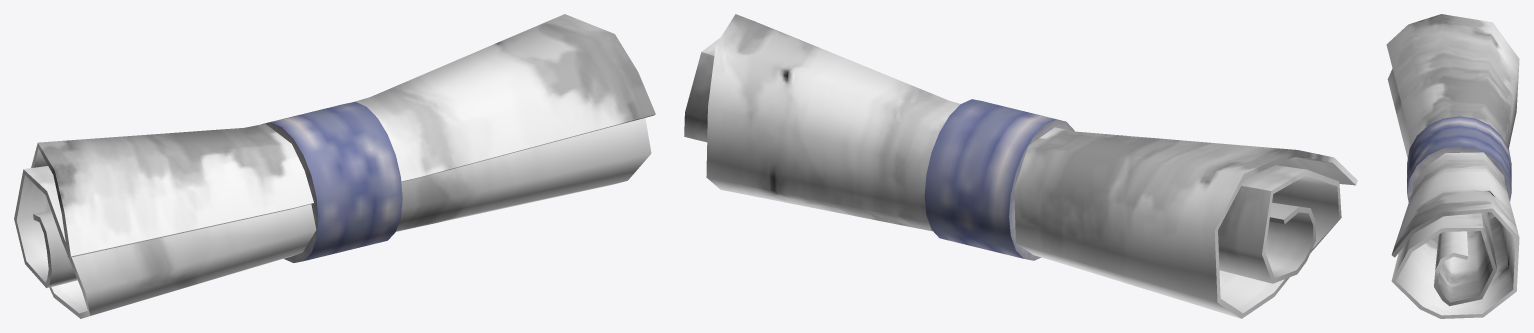
Rendered from scroll_1.glb.
The picture shows the model from 3 angles, left to right: view 1: azimuth 30°, elevation 25°; view 2: azimuth 150°, elevation 25°; view 3: azimuth 270°, elevation 25°; orthographic projection. The views are drawn at different scales.
Parts seen in each view (by area): view 1: Scroll_1; view 2: Scroll_1; view 3: Scroll_1.
Part boxes in pixels (x1,y1,x2,y2): Scroll_1: [14, 14, 655, 318]; Scroll_1: [684, 14, 1357, 318]; Scroll_1: [1386, 14, 1519, 318].
Size of the model in its own units: 0.2439 by 0.0588 by 0.0631.
Materials: 2 (2 with a texture image).
